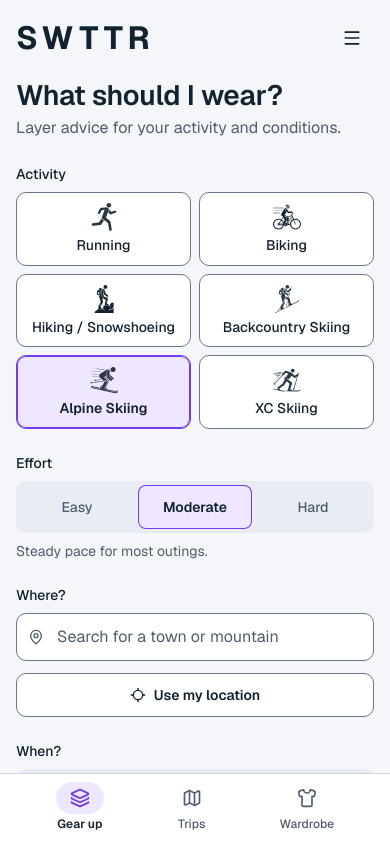
Scenario: Home Page › choosing where › goes Back from the results to the form with the activity and place kept, and starts over from the logo
Expected: the element named "Activity" is shown, 16,192 -> 374,429
Click the radio button labelled "XC Skiing" at (286, 392), box 199,355 -> 374,429
(page scrolled)
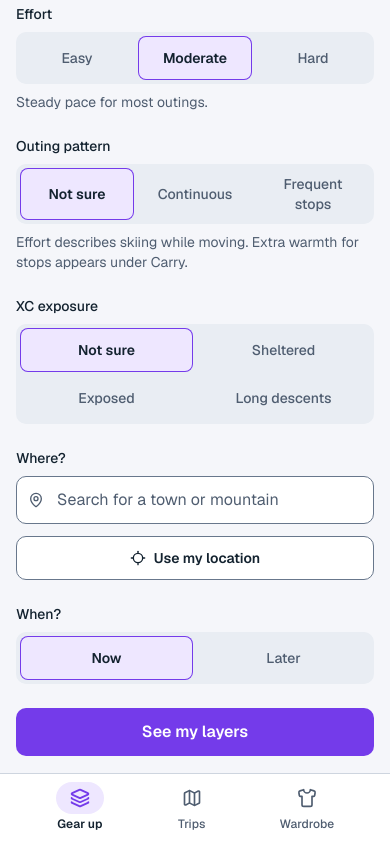
Type "Stowe" into the dropdown labelled "Where?" at (195, 500), box 16,476 -> 374,524
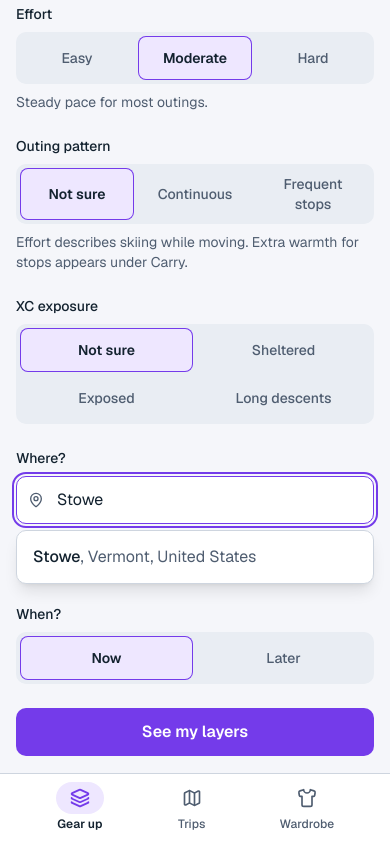
Click the option "Stowe, Vermont, United States" at (145, 556), box 33,546 -> 256,567
(page scrolled)
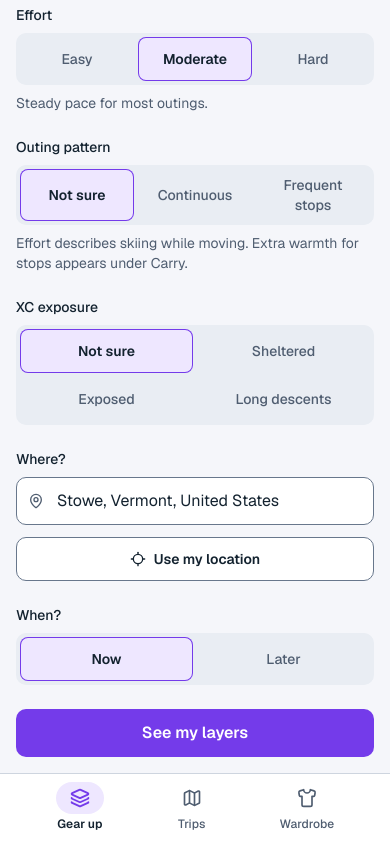
Click the button "See my layers" at (195, 733), box 16,709 -> 374,757
(page scrolled)
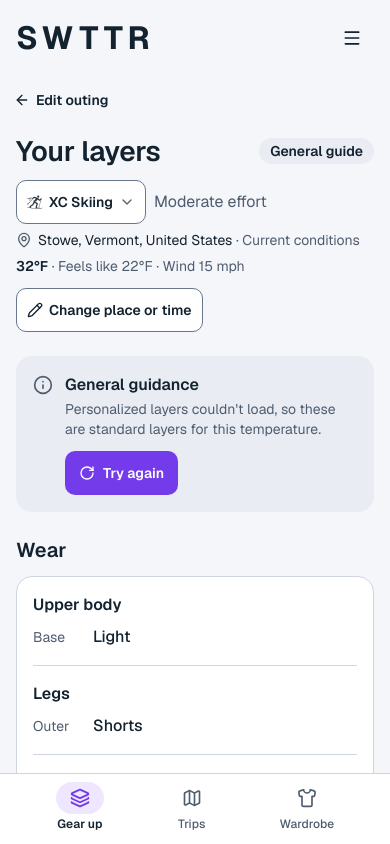
Result: the text "Current conditions" is shown at 242,231 -> 360,249
Click the button "Edit outing" at (61, 100), box 4,78 -> 118,122
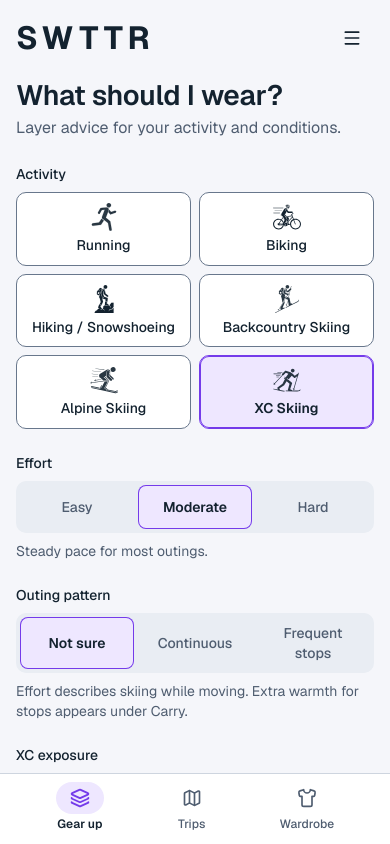
Result: the radio button labelled "XC Skiing" is checked at 199,355 -> 374,429
Result: the text "Current conditions" is gone
Click the link "SWTTR" at (85, 38), box 16,14 -> 155,62
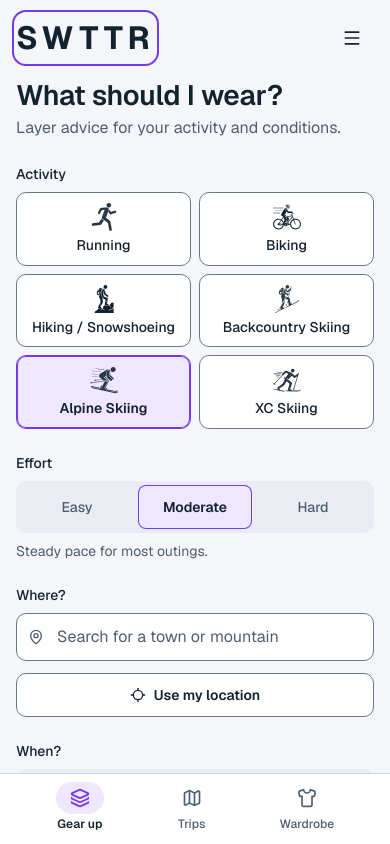
Result: the radio button labelled "Alpine Skiing" is checked at 16,355 -> 191,429
Result: the dropdown labelled "Where?" is empty at 16,613 -> 374,661
